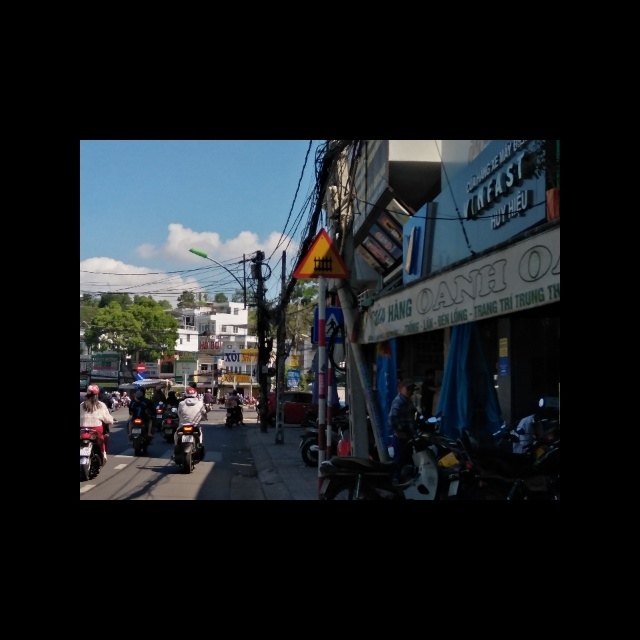Giao nhau với đường sắt có rào chắn: (291, 228, 352, 280)
